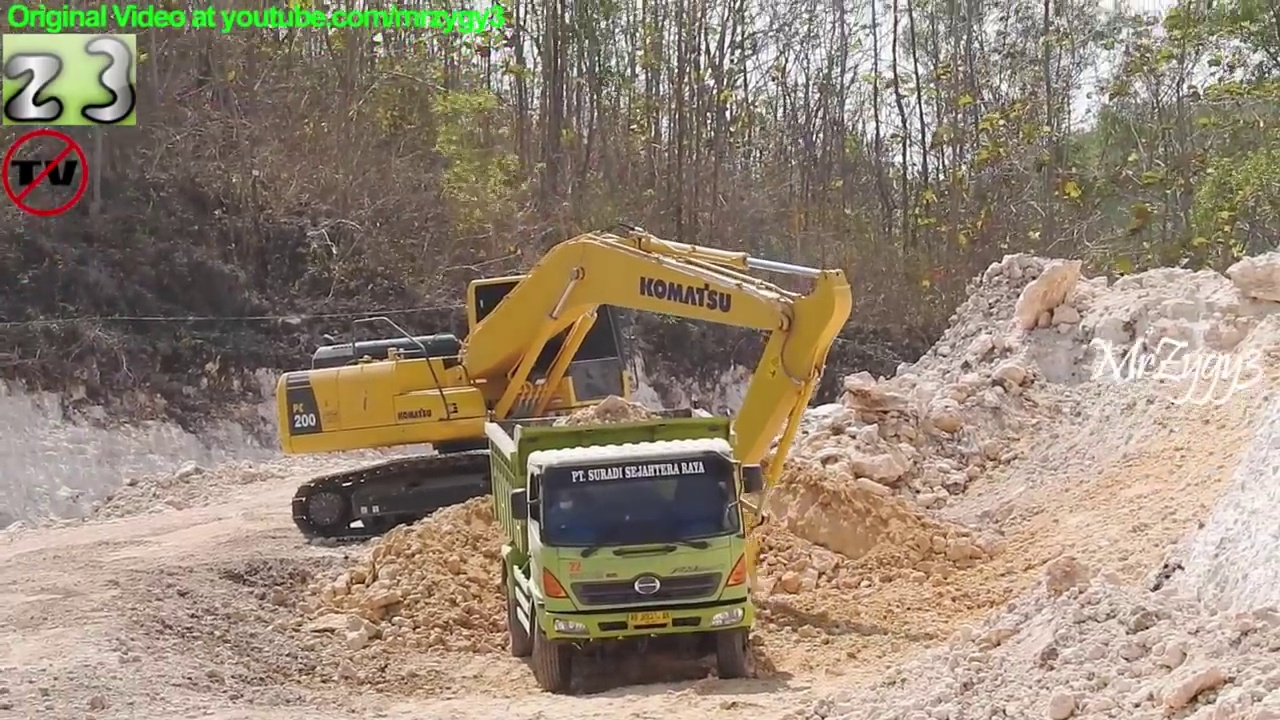excavator: (268, 221, 857, 586)
truck: (478, 393, 771, 702)
